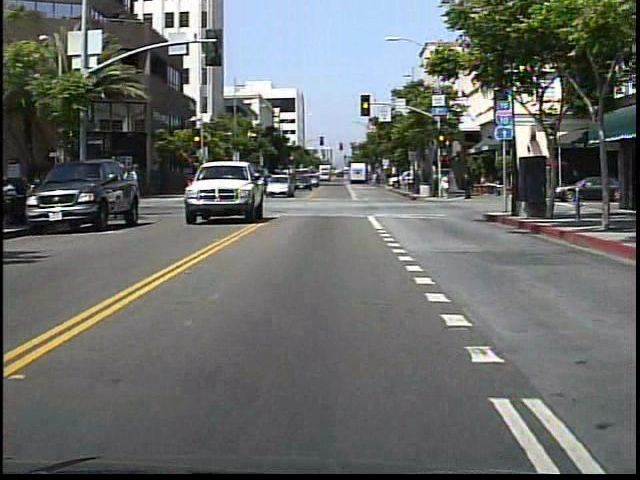person: (124, 163, 151, 191), (460, 171, 474, 203), (441, 173, 451, 199), (186, 173, 197, 189)
